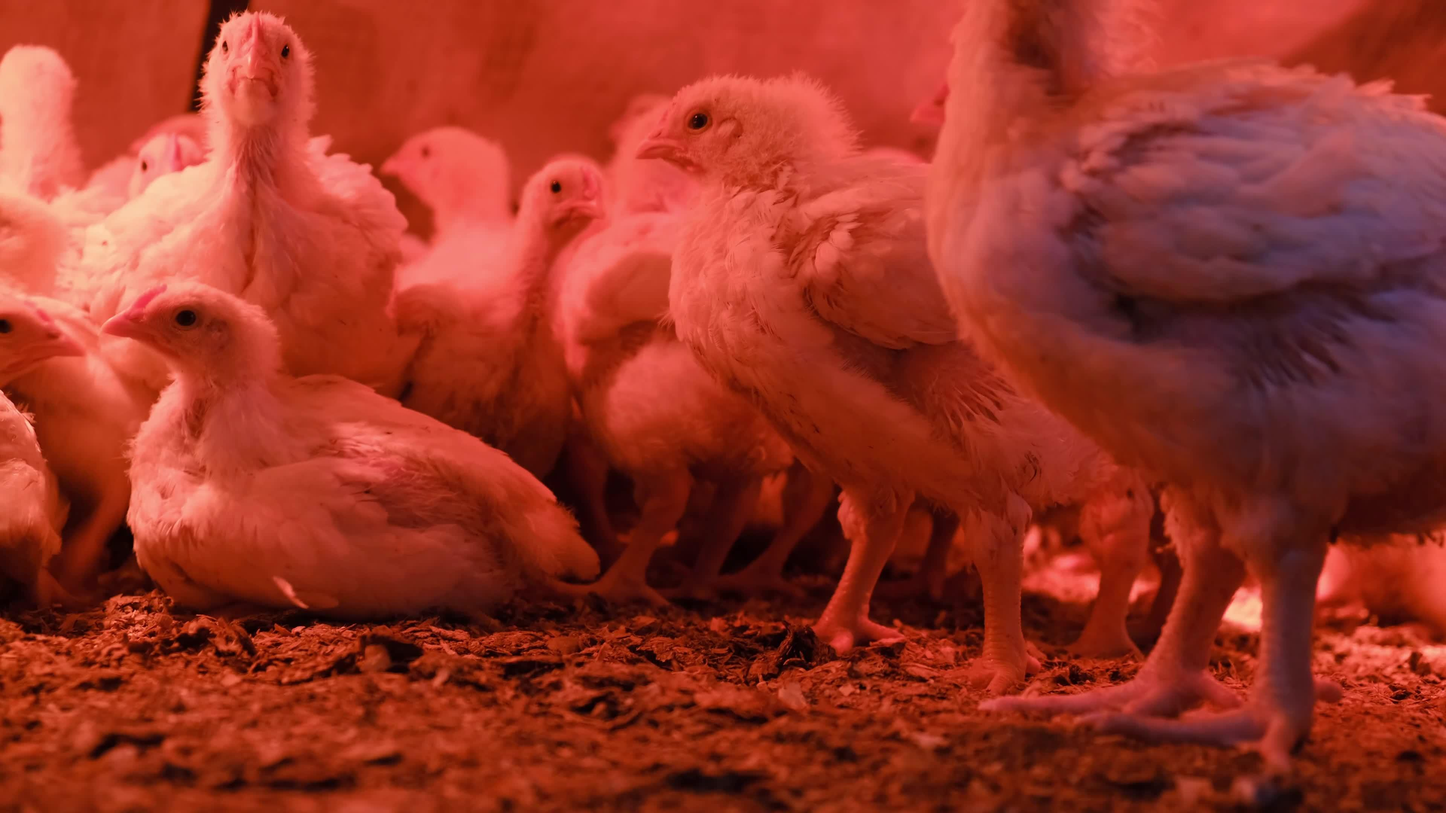AbNormal: (102, 269, 610, 615), (0, 267, 168, 570)
Normal: (911, 0, 1429, 773), (606, 75, 1141, 702), (179, 0, 395, 350), (463, 147, 638, 433), (369, 102, 520, 286), (4, 28, 113, 215), (87, 100, 222, 230)
